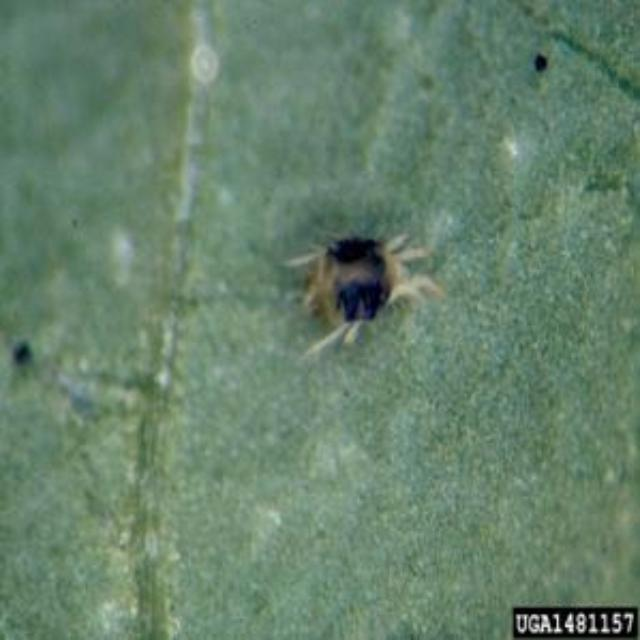spider mite: (278, 200, 448, 406)
